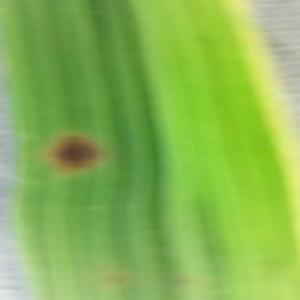Brown_Spot: (34, 123, 115, 184)
